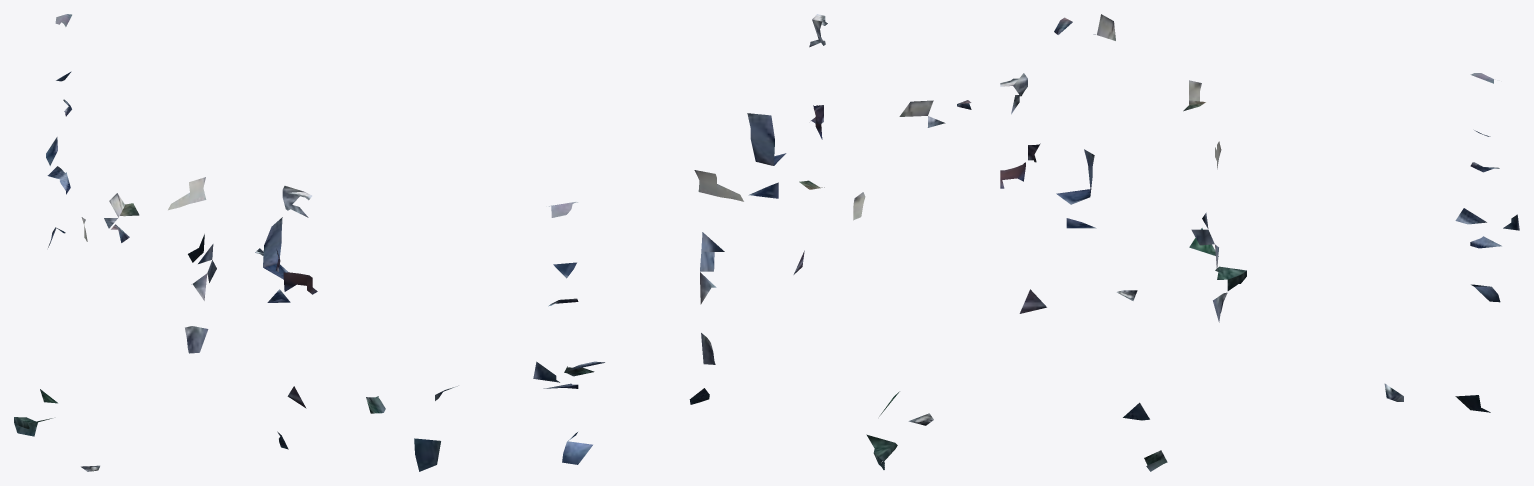
3 views of the same model, side by side, from view 1: azimuth 30°, elevation 25°; view 2: azimuth 150°, elevation 25°; view 3: azimuth 270°, elevation 25° (orthographic). The views are drawn at different scales.
Visible parts, largest first — view 1: 30436272704361406407_1; view 2: 30436272704361406407_1; view 3: 30436272704361406407_1.
Boxes of the visible parts, x1=… form: 30436272704361406407_1: x1=14, y1=14, x2=385, y2=471; 30436272704361406407_1: x1=414, y1=14, x2=971, y2=471; 30436272704361406407_1: x1=1000, y1=14, x2=1519, y2=471.
Bounding box in the file's own units: 27.31 × 25.27 × 37.33.
Materials: 1 (1 with a texture image).
